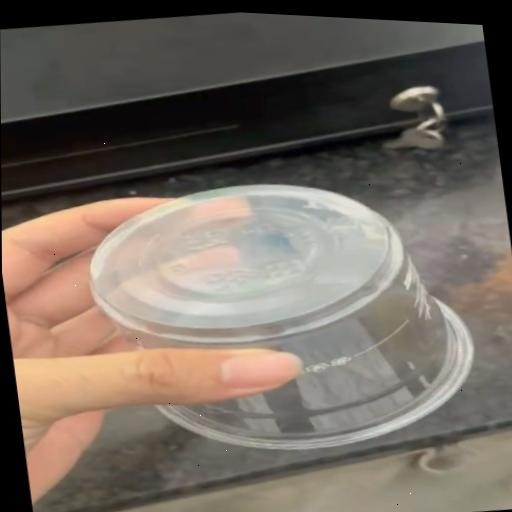ly_nhua: (92, 185, 473, 449)
